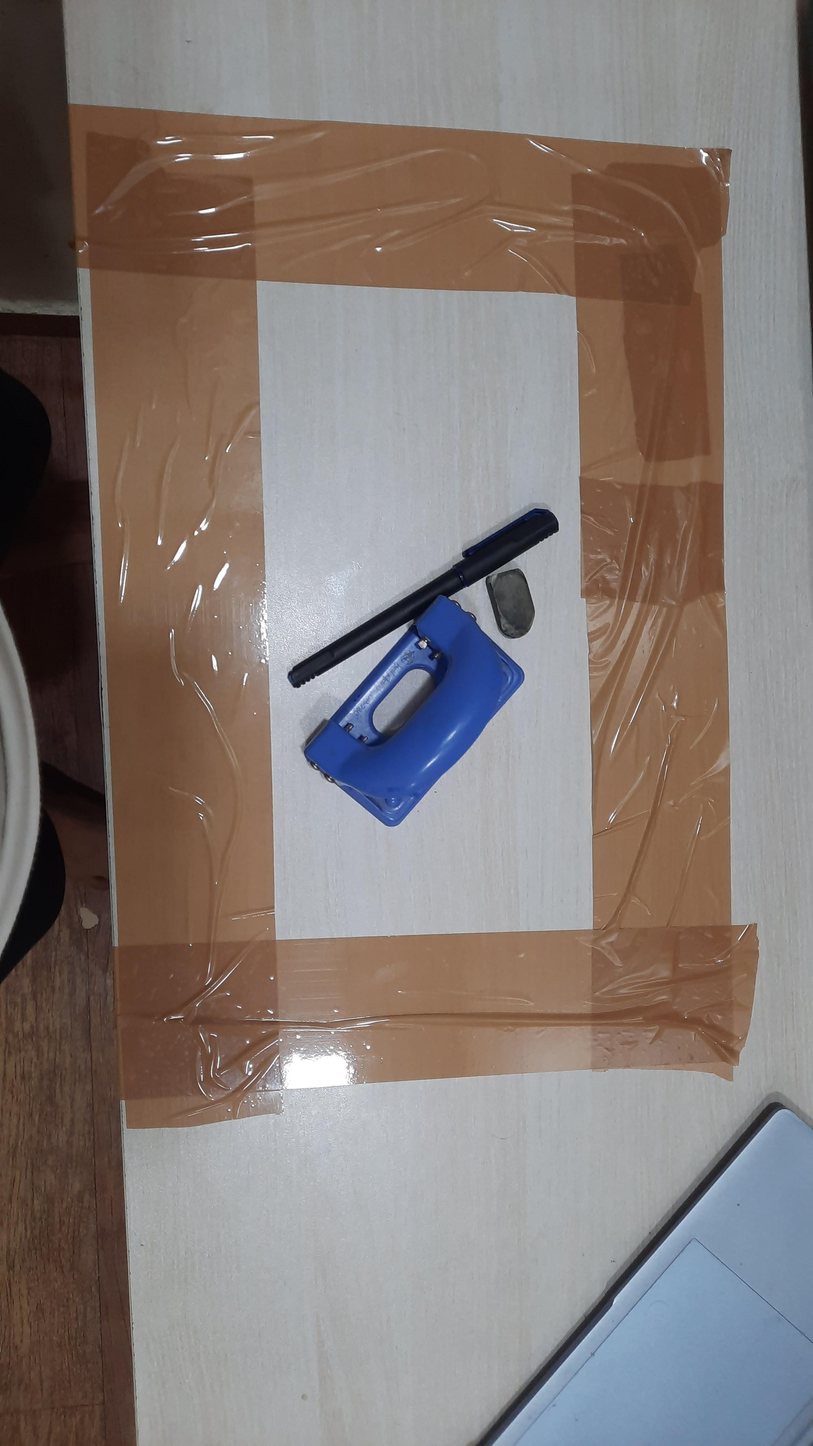Eraser: (486, 568, 535, 639)
Pen: (287, 507, 560, 689)
Punch: (304, 594, 526, 827)
